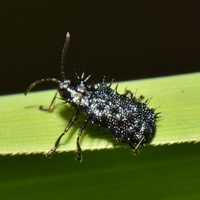insect: (24, 32, 157, 161)
